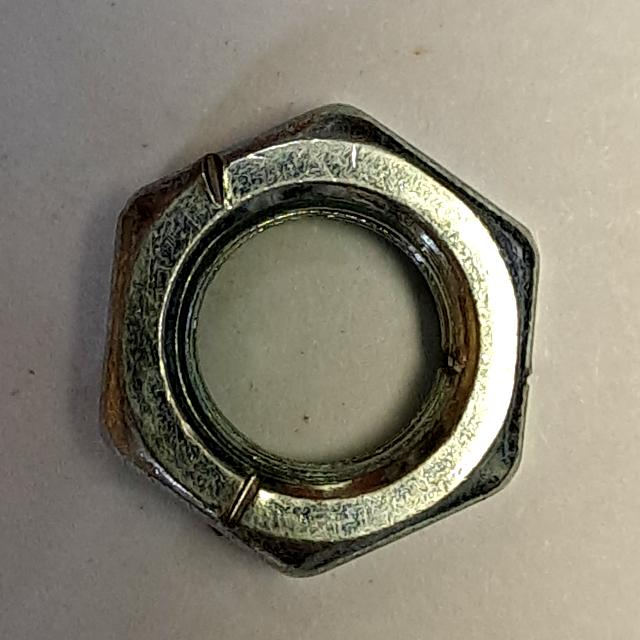Scratches: (83, 96, 555, 590)
